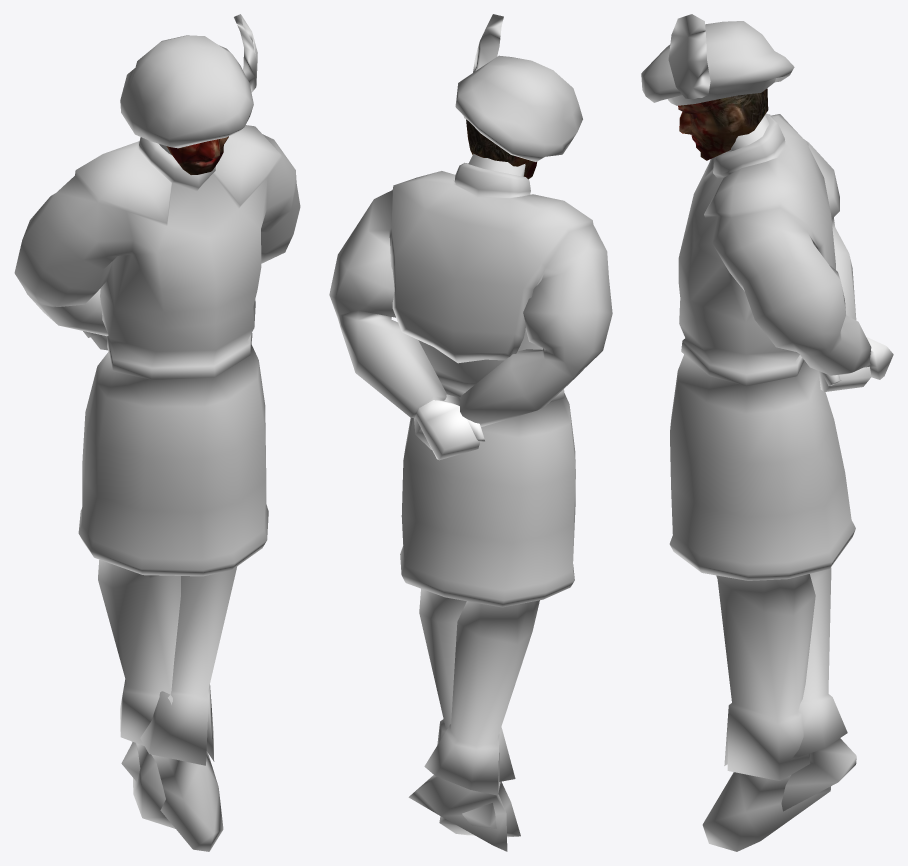
File: KM_CITYONFIRE_CORPSE_HANG_04.glb
The picture shows the model from 3 angles, left to right: view 1: azimuth 30°, elevation 25°; view 2: azimuth 150°, elevation 25°; view 3: azimuth 270°, elevation 25°; orthographic projection. The views are drawn at different scales.
Visible parts, largest first — view 1: Mesh; view 2: Mesh; view 3: Mesh.
Boxes of the visible parts, box(x1,y1,x2,y2) form: Mesh: box(14, 14, 300, 851); Mesh: box(329, 14, 612, 851); Mesh: box(641, 14, 893, 851).
Bounding box in the file's own units: 0.6937 × 2.07 × 0.5626.
Materials: 3 (1 with a texture image).
